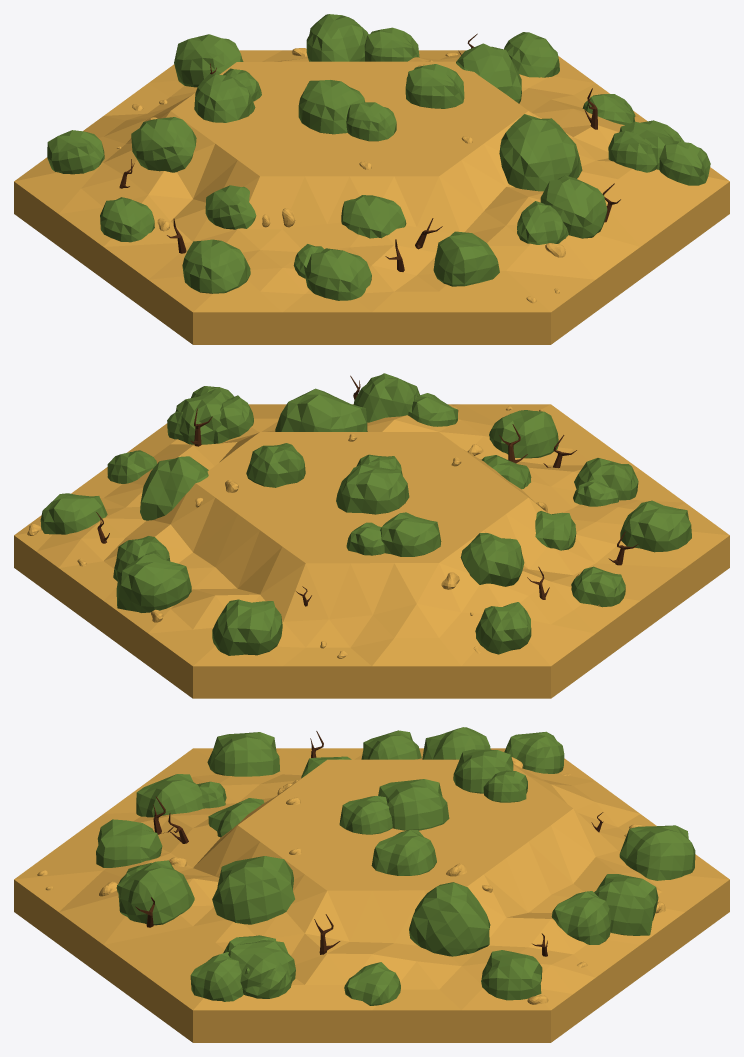
File: shrublands.glb
3 views of the same model, one above another, from view 1: azimuth 30°, elevation 25°; view 2: azimuth 150°, elevation 25°; view 3: azimuth 270°, elevation 25° (orthographic).
Visible parts, largest first — view 1: land, bushes, rocks, deadbushes; view 2: land, bushes, deadbushes, rocks; view 3: land, bushes, rocks, deadbushes.
Part boxes in pixels (x1,y1,x2,y2): land: (14, 50, 729, 344); bushes: (47, 14, 710, 300); rocks: (117, 48, 565, 303); deadbushes: (119, 33, 620, 271); land: (14, 404, 729, 698); bushes: (40, 373, 691, 655); deadbushes: (96, 375, 638, 606); rocks: (27, 404, 599, 658); land: (14, 748, 729, 1042); bushes: (96, 727, 695, 1005); rocks: (37, 757, 665, 1004); deadbushes: (135, 731, 603, 956).
Bounding box in the file's own units: 1.73 × 0.3712 × 2.
